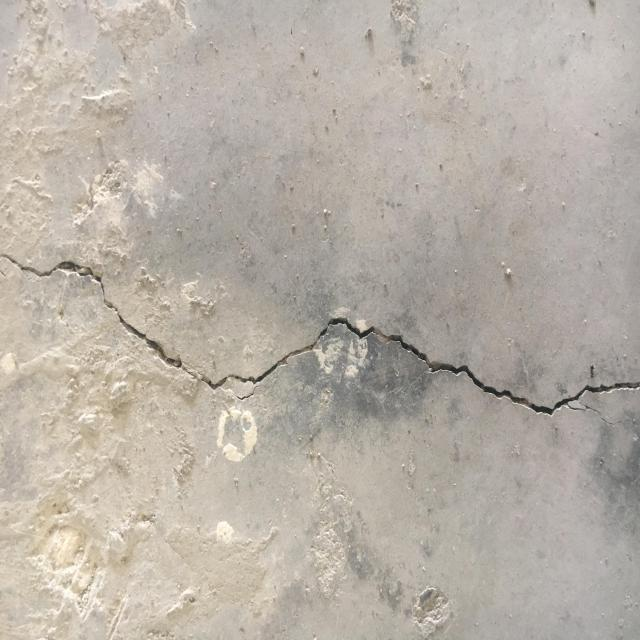SurfaceCrack: (1, 197, 640, 454)
